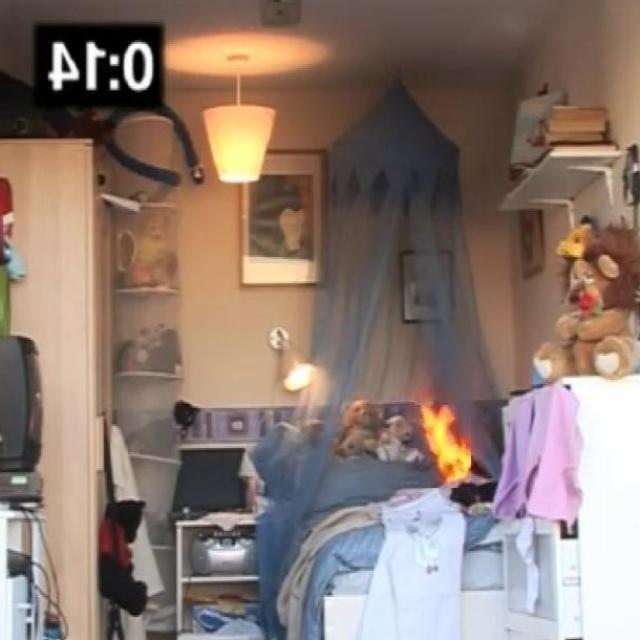smoke: (414, 390, 472, 488)
